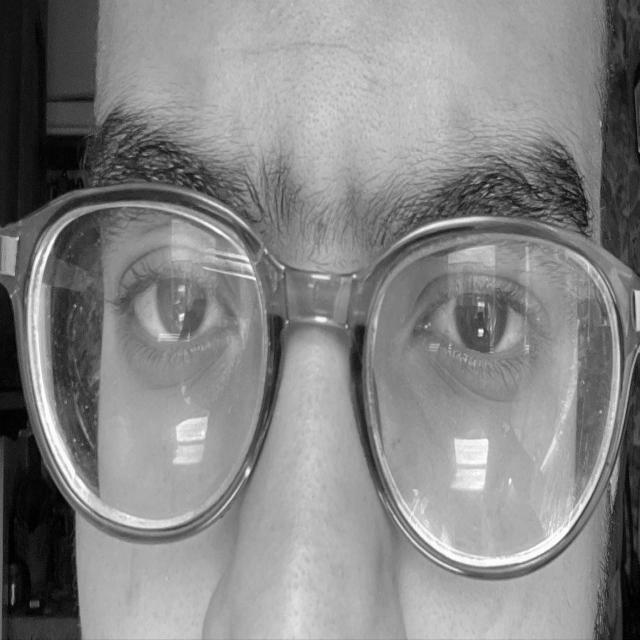real: (91, 150, 580, 526)
